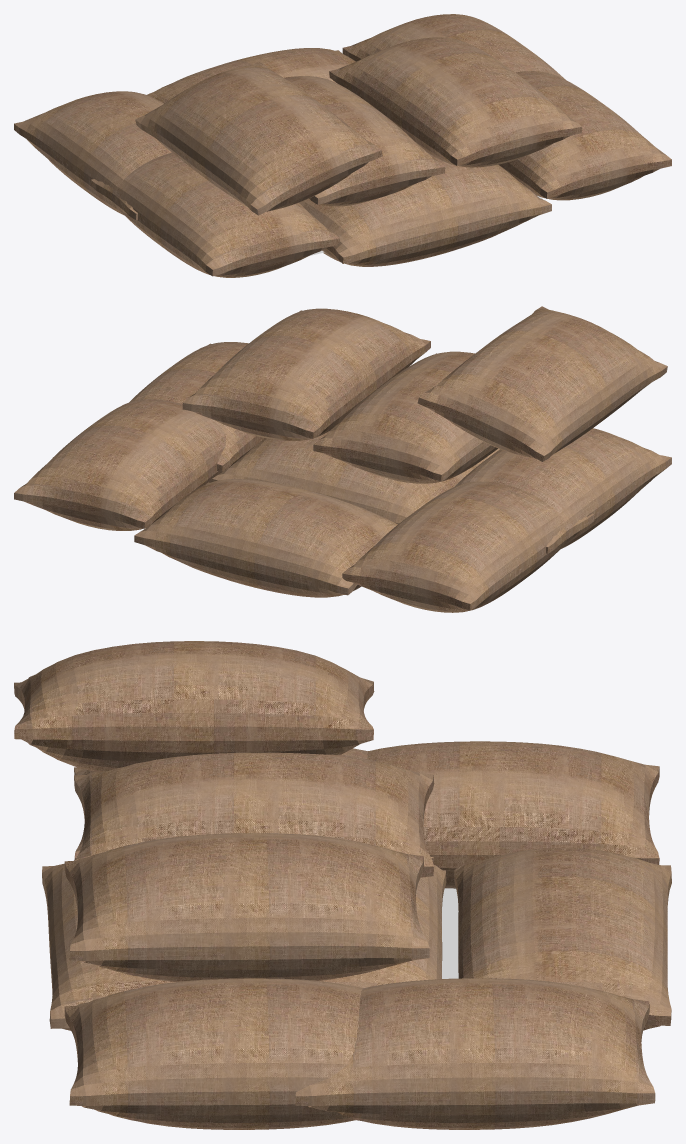
Rendered from tela yute natural.glb.
3 renders of one model, top to bottom at view 1: azimuth 30°, elevation 25°; view 2: azimuth 150°, elevation 25°; view 3: azimuth 270°, elevation 25°, orthographic. The views are drawn at different scales.
Visible parts, largest first — view 1: Cube.007, Cube.004, Cube.006, Cube.002, Cube.005, Cube.010, Cube.003, Cube.009, Cube.008; view 2: Cube.007, Cube.008, Cube.004, Cube.010, Cube.009, Cube.003, Cube.006, Cube.001, Cube.005; view 3: Cube.004, Cube.009, Cube.005, Cube.007, Cube.003, Cube.008, Cube.010, Cube.002, Cube.001, Plane.
Part boxes in pixels (<box>): Cube.007: <box>135,61,382,215</box>; Cube.004: <box>329,37,581,167</box>; Cube.006: <box>90,152,339,277</box>; Cube.002: <box>299,154,551,266</box>; Cube.005: <box>498,71,671,200</box>; Cube.010: <box>14,91,171,219</box>; Cube.003: <box>284,76,445,206</box>; Cube.009: <box>342,14,565,79</box>; Cube.008: <box>147,48,355,103</box>; Cube.007: <box>417,306,667,461</box>; Cube.008: <box>134,479,397,597</box>; Cube.004: <box>182,308,430,440</box>; Cube.010: <box>342,481,594,612</box>; Cube.009: <box>14,399,225,530</box>; Cube.003: <box>313,351,497,483</box>; Cube.006: <box>455,428,671,553</box>; Cube.001: <box>211,431,475,524</box>; Cube.005: <box>129,342,264,471</box>; Cube.004: <box>64,833,429,981</box>; Cube.009: <box>295,978,655,1129</box>; Cube.005: <box>64,978,363,1129</box>; Cube.007: <box>14,641,374,772</box>; Cube.003: <box>74,752,434,877</box>; Cube.008: <box>454,848,671,1030</box>; Cube.010: <box>367,741,659,888</box>; Cube.002: <box>42,863,175,1030</box>; Cube.001: <box>319,865,446,987</box>; Plane: <box>442,888,458,978</box>.
Bounding box in the file's own units: 11.32 × 4.2 × 9.56.
Materials: 1 (1 with a texture image).
